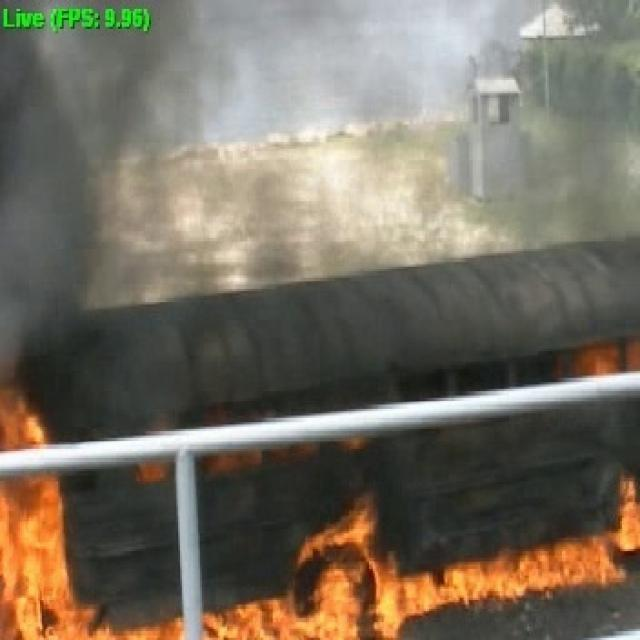Fire: (0, 406, 72, 640), (284, 521, 376, 636)
